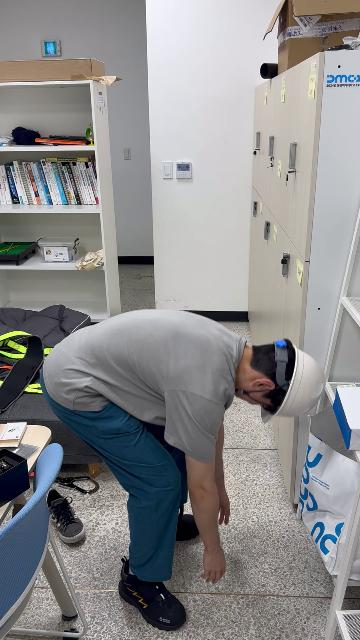helmet_worn: (259, 334, 325, 433)
shoe_not_worn: (46, 489, 86, 544)
shoe_worn: (118, 560, 186, 632), (175, 505, 199, 542)
vest_not_worn: (40, 306, 243, 458)
